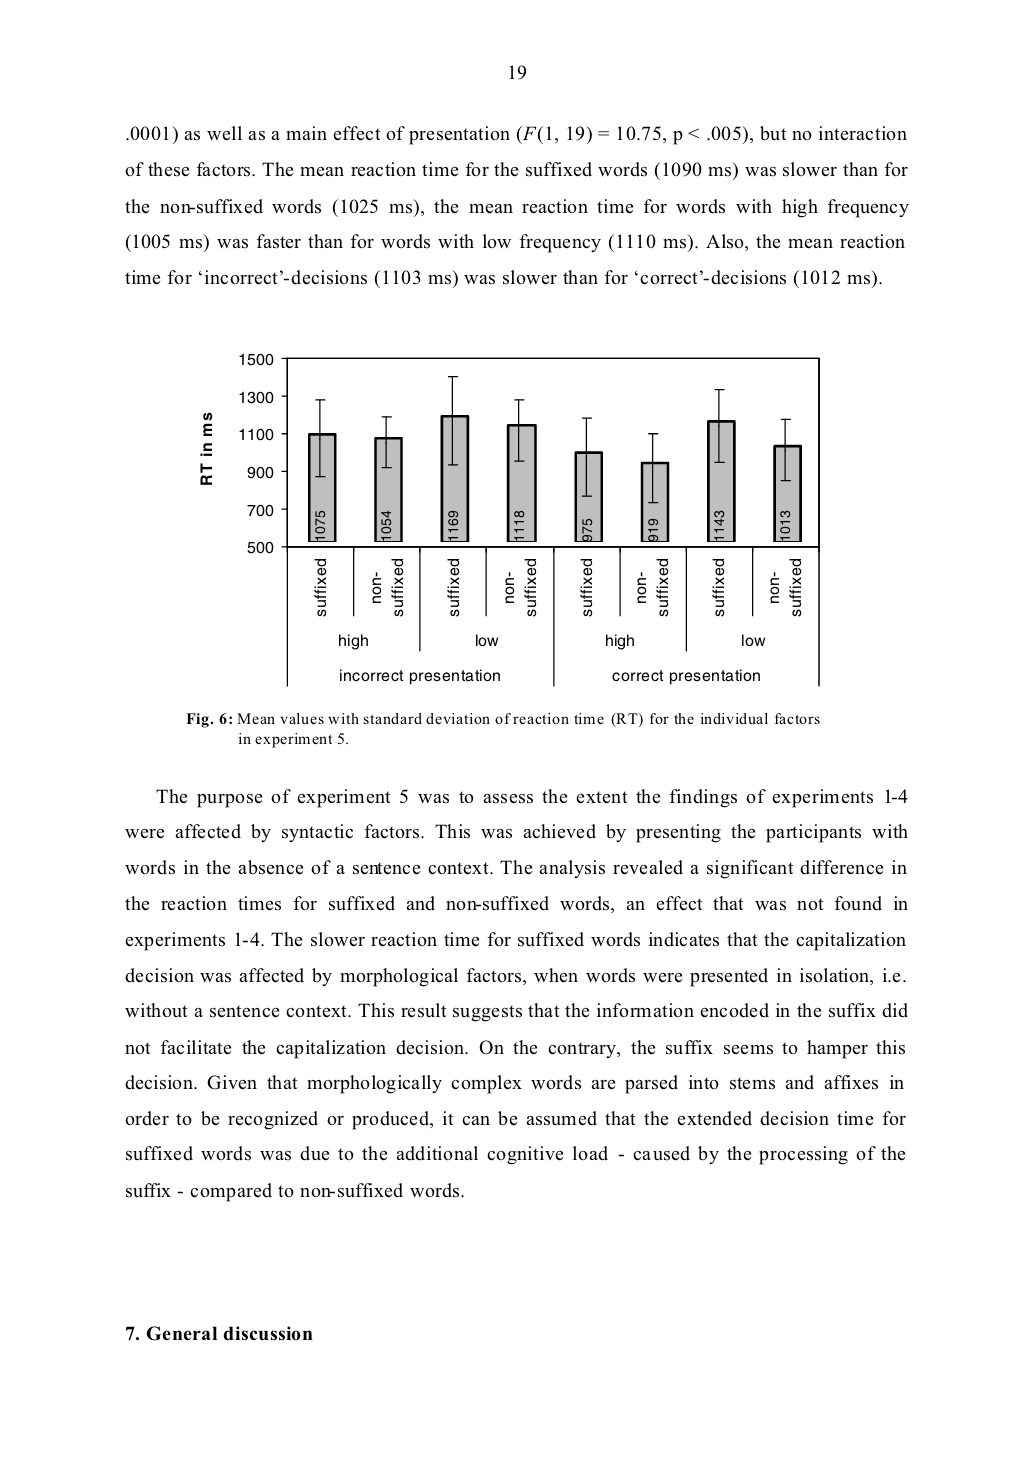figure: (200, 352, 819, 686)
